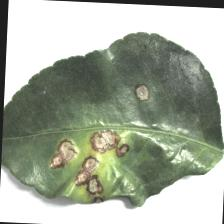canker: (36, 97, 134, 198)
